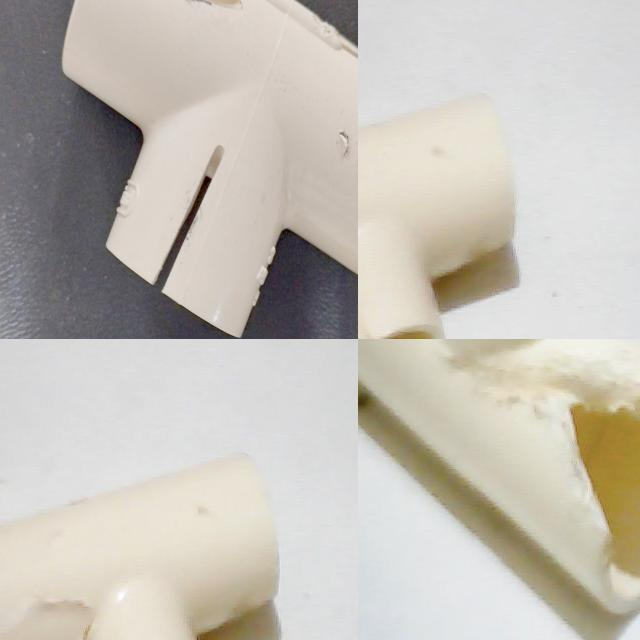Defective: (474, 350, 640, 560), (65, 230, 178, 318), (0, 579, 89, 640)
T Joint: (358, 339, 640, 640), (0, 0, 189, 339), (0, 454, 279, 640), (358, 95, 515, 339)
